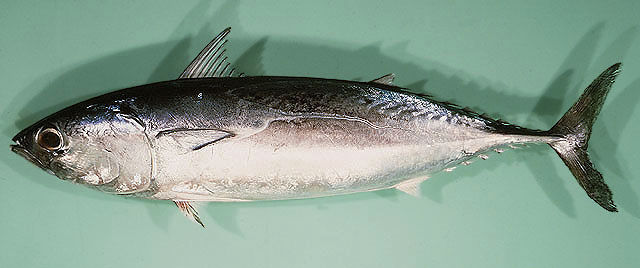fish: (9, 29, 620, 225)
